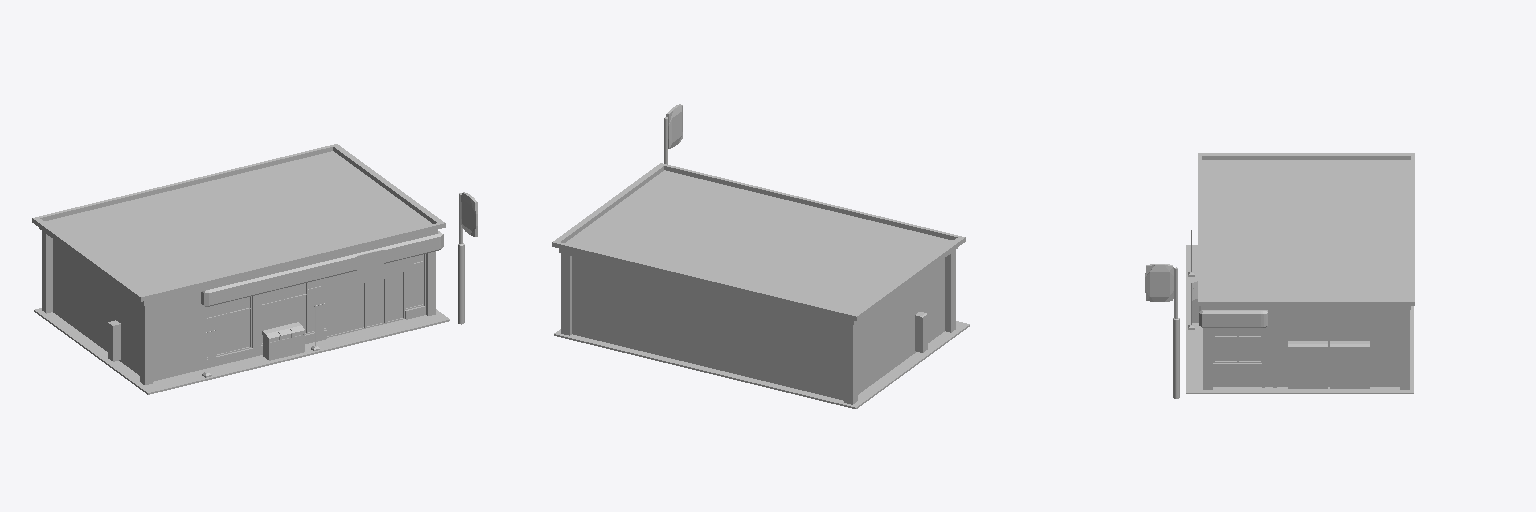
File: Convenience (1).obj
The picture shows the model from 3 angles: view 1: azimuth 30°, elevation 25°; view 2: azimuth 150°, elevation 25°; view 3: azimuth 270°, elevation 25°; orthographic projection.
Visible parts, largest first — view 1: pCube1, pCube8, pPlane1, pCube7, pCube24, pCube3, pCube6, pPlane2, pCube4, pCube18; view 2: pCube1, pCube6, pCube5, pCube3, pCube24; view 3: pCube1, pCube12, pCube25, pCube24, pCube9, pPlane1, pCube5, pCube4.
Boxes of the visible parts, x1=… form: pCube1: x1=32, y1=144, x2=449, y2=394; pCube8: x1=261, y1=254, x2=423, y2=344; pPlane1: x1=201, y1=231, x2=443, y2=306; pCube7: x1=207, y1=296, x2=251, y2=358; pCube24: x1=458, y1=192, x2=477, y2=324; pCube3: x1=140, y1=303, x2=152, y2=384; pCube6: x1=42, y1=231, x2=52, y2=313; pPlane2: x1=322, y1=257, x2=413, y2=287; pCube4: x1=426, y1=251, x2=435, y2=315; pCube18: x1=262, y1=328, x2=280, y2=360; pCube1: x1=552, y1=163, x2=969, y2=408; pCube6: x1=844, y1=322, x2=857, y2=404; pCube5: x1=561, y1=254, x2=571, y2=335; pCube3: x1=945, y1=250, x2=955, y2=332; pCube24: x1=664, y1=104, x2=682, y2=164; pCube1: x1=1186, y1=153, x2=1414, y2=393; pCube12: x1=1288, y1=341, x2=1327, y2=388; pCube25: x1=1330, y1=341, x2=1369, y2=388; pCube24: x1=1145, y1=264, x2=1179, y2=398; pCube9: x1=1213, y1=328, x2=1261, y2=362; pPlane1: x1=1199, y1=306, x2=1267, y2=327; pCube5: x1=1400, y1=310, x2=1409, y2=389; pCube4: x1=1203, y1=328, x2=1212, y2=389.
Bounding box in the file's own units: 42.63 × 17.37 × 31.83.